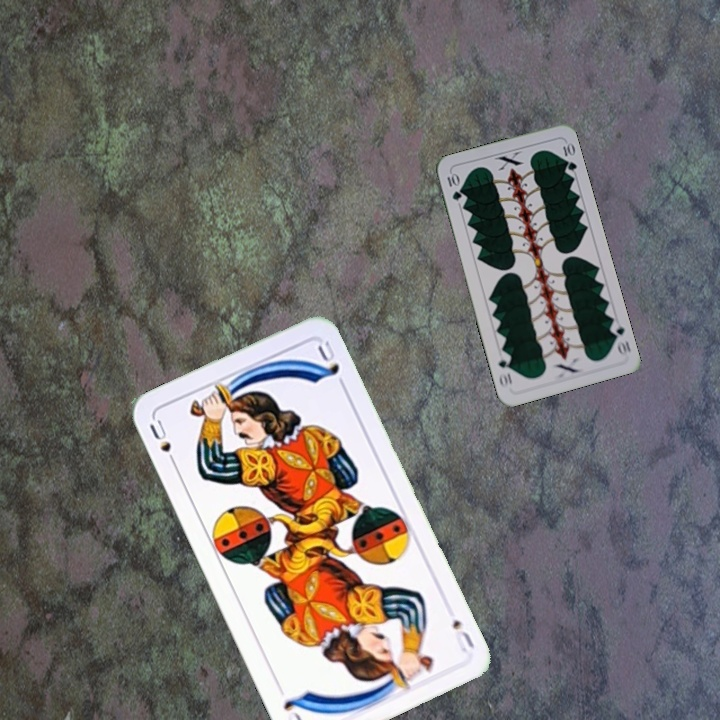G10: (606, 318, 633, 359), (443, 169, 464, 203)
SU: (145, 415, 180, 471), (448, 615, 477, 655)
